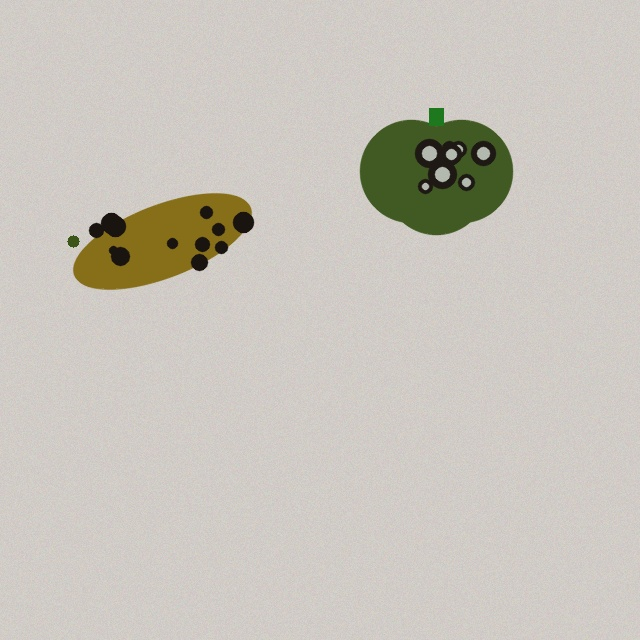Rotten banana: (64, 196, 260, 286)
Rotten bell pepper: (360, 108, 512, 234)
